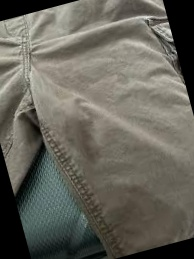oil: (61, 99, 104, 162), (115, 68, 127, 83)
